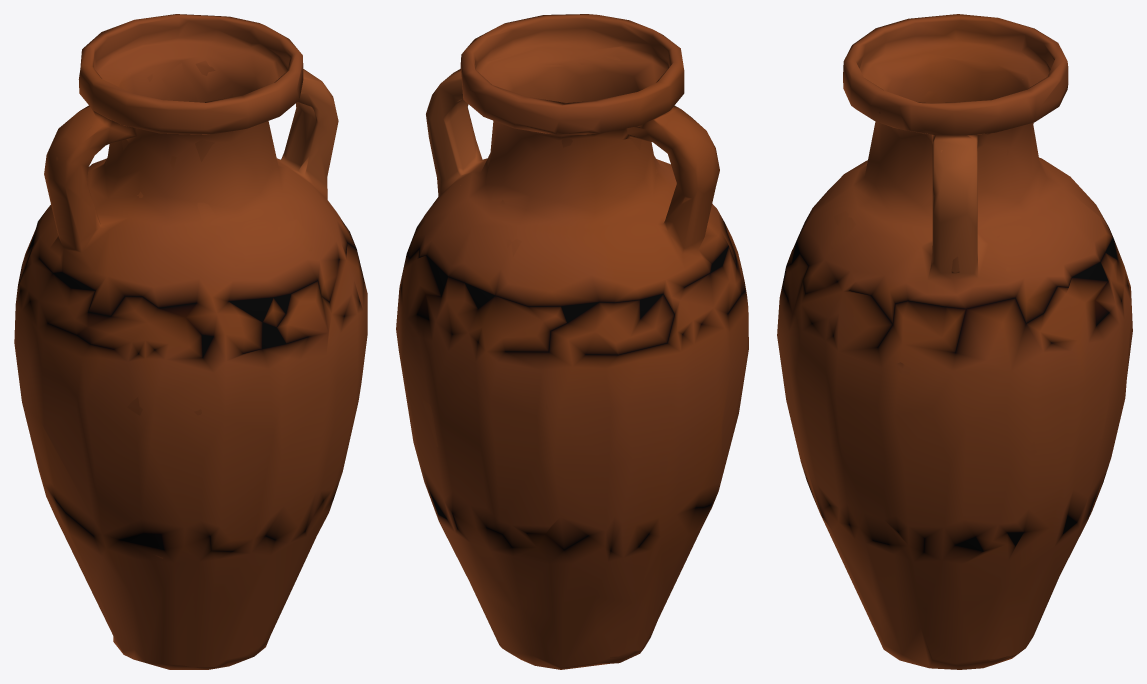
The model's file is gen3d-amphora-lod0.glb.
The picture shows the model from 3 angles, left to right: view 1: azimuth 30°, elevation 25°; view 2: azimuth 150°, elevation 25°; view 3: azimuth 270°, elevation 25°; orthographic projection.
Parts seen in each view (by area): view 1: part_0; view 2: part_0; view 3: part_0.
Part boxes in pixels (<box>): part_0: <box>14,14,367,669</box>; part_0: <box>396,14,748,669</box>; part_0: <box>777,14,1132,669</box>.
Bounding box in the file's own units: 0.5545 × 1 × 0.5569.
